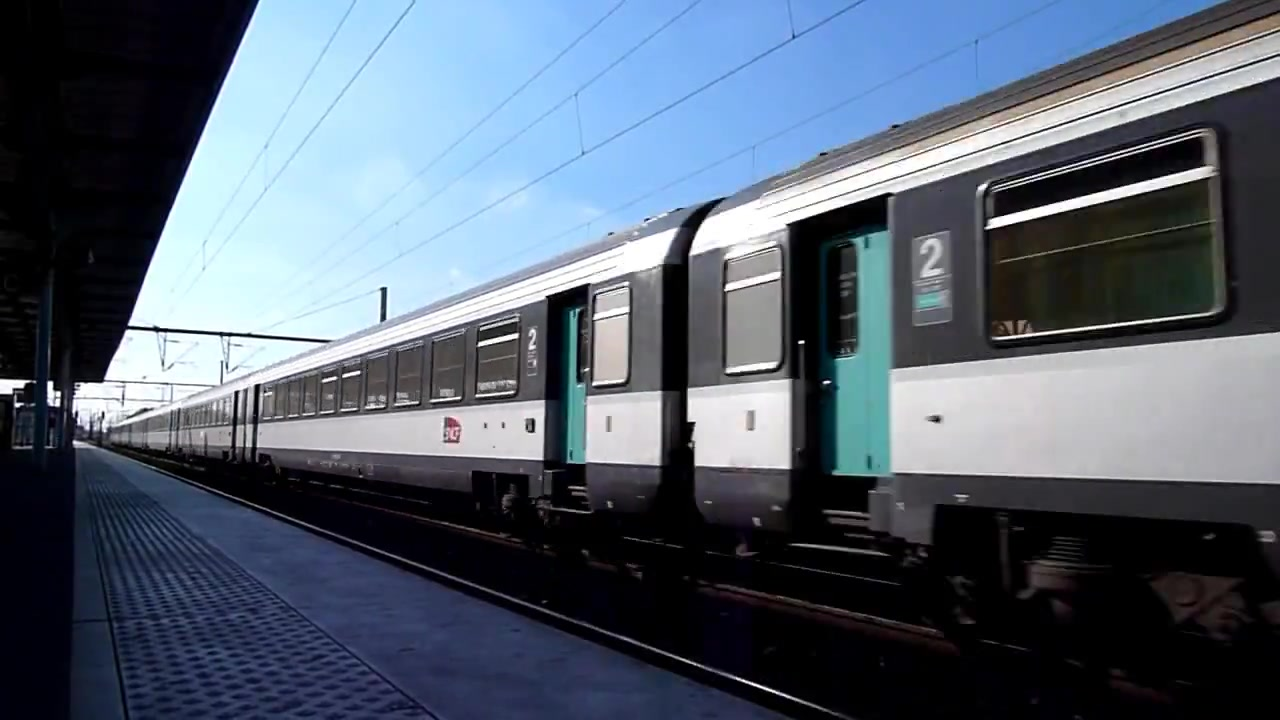train: (105, 1, 1280, 686)
